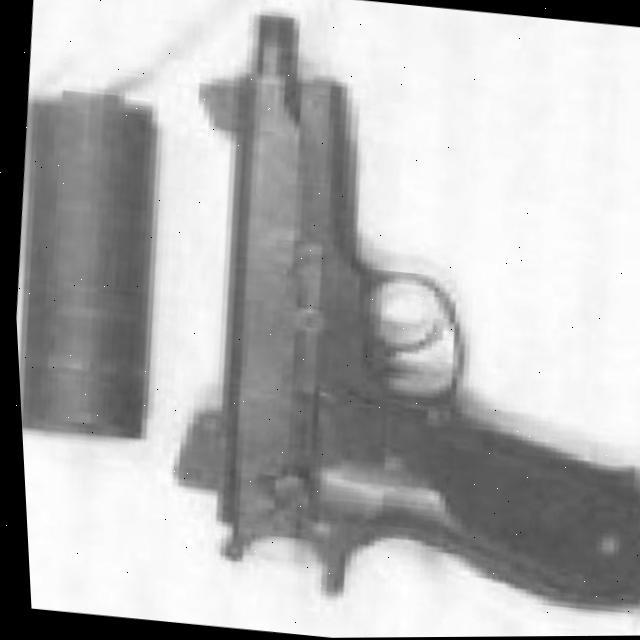gun: (123, 0, 640, 638)
